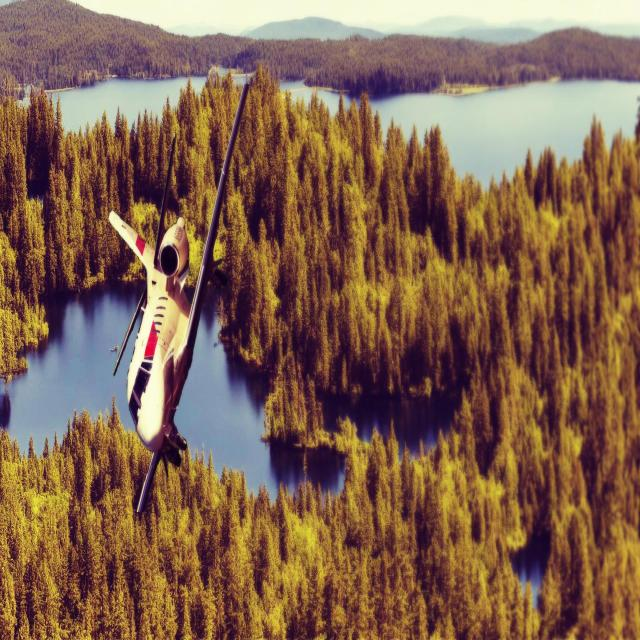airplane: (107, 78, 251, 518)
